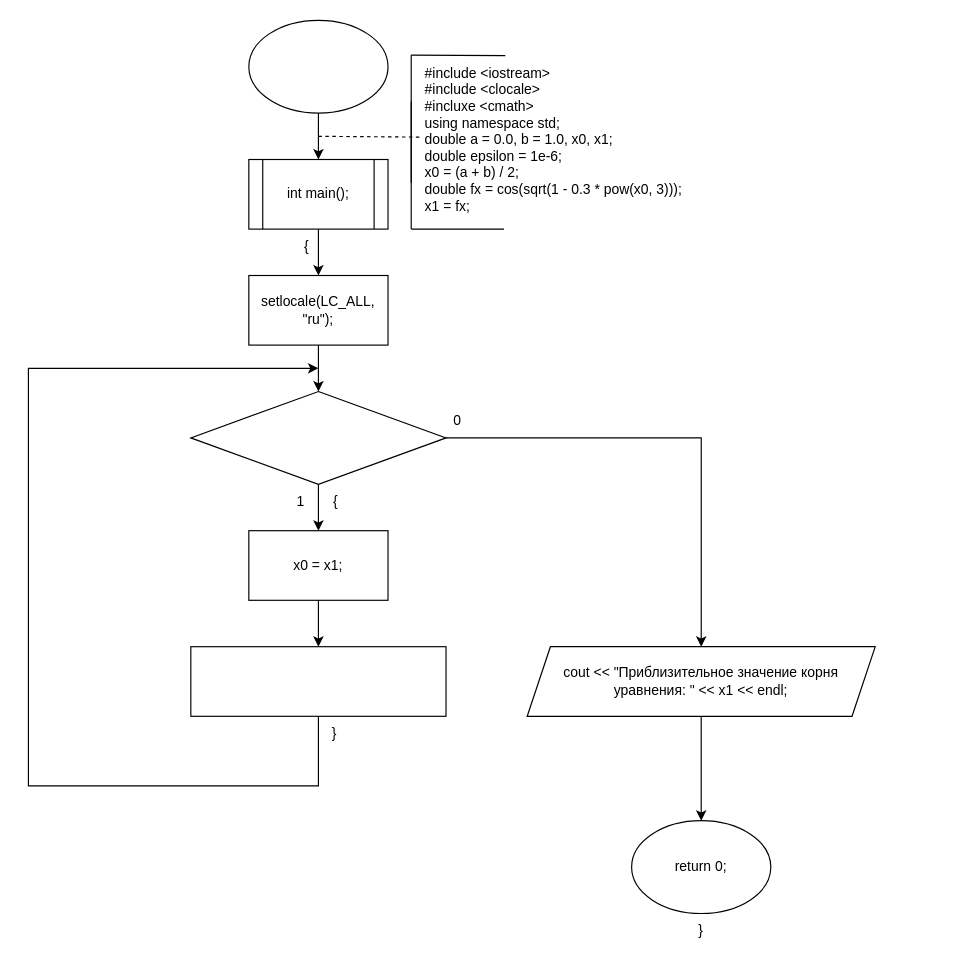
This 965x969 diagram has some shape labels left out. Here are the shapes that lost their labels. From the top down, the centre of each, then its label:
At (x=318, y=66): "Начало".
At (x=318, y=437): "while (abs(x1 - x0) > epsilon)".
At (x=318, y=681): "x1 = cos(sqrt(1 - 0.3 * pow(x0, 3)));".
